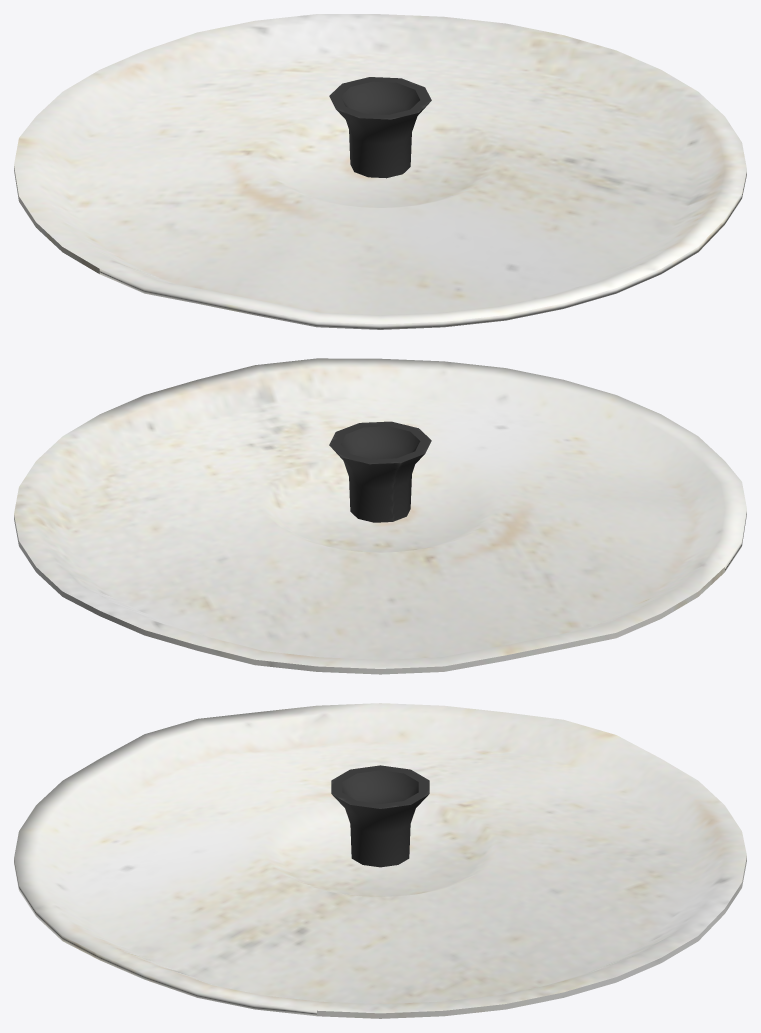
File: Pan02_Cap01.FBX
3 renders of one model, top to bottom at view 1: azimuth 30°, elevation 25°; view 2: azimuth 150°, elevation 25°; view 3: azimuth 270°, elevation 25°, orthographic.
Parts seen in each view (by area): view 1: Pan02_Cap01_LOD0; view 2: Pan02_Cap01_LOD0; view 3: Pan02_Cap01_LOD0.
Part boxes in pixels (x1,y1,x2,y2): Pan02_Cap01_LOD0: [14, 14, 746, 329]; Pan02_Cap01_LOD0: [14, 358, 746, 674]; Pan02_Cap01_LOD0: [14, 703, 746, 1018].
Size of the model in its own units: 10.83 by 10.81 by 1.49.
